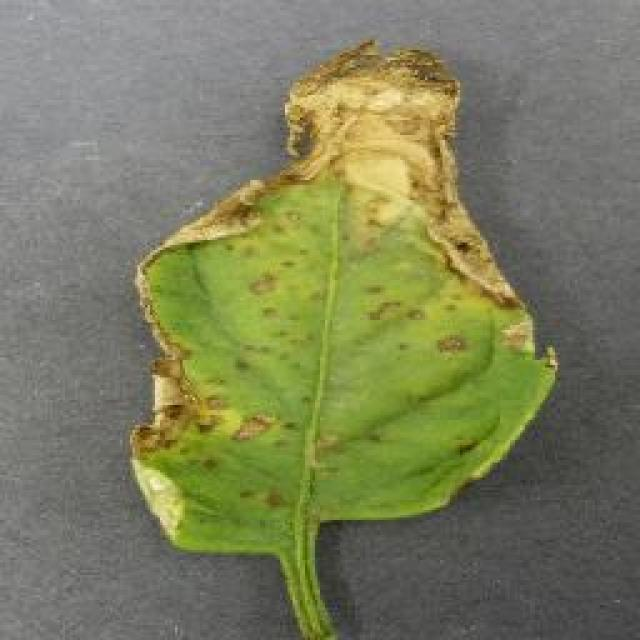Tomato___Bacterial_spot: (126, 40, 565, 638)
